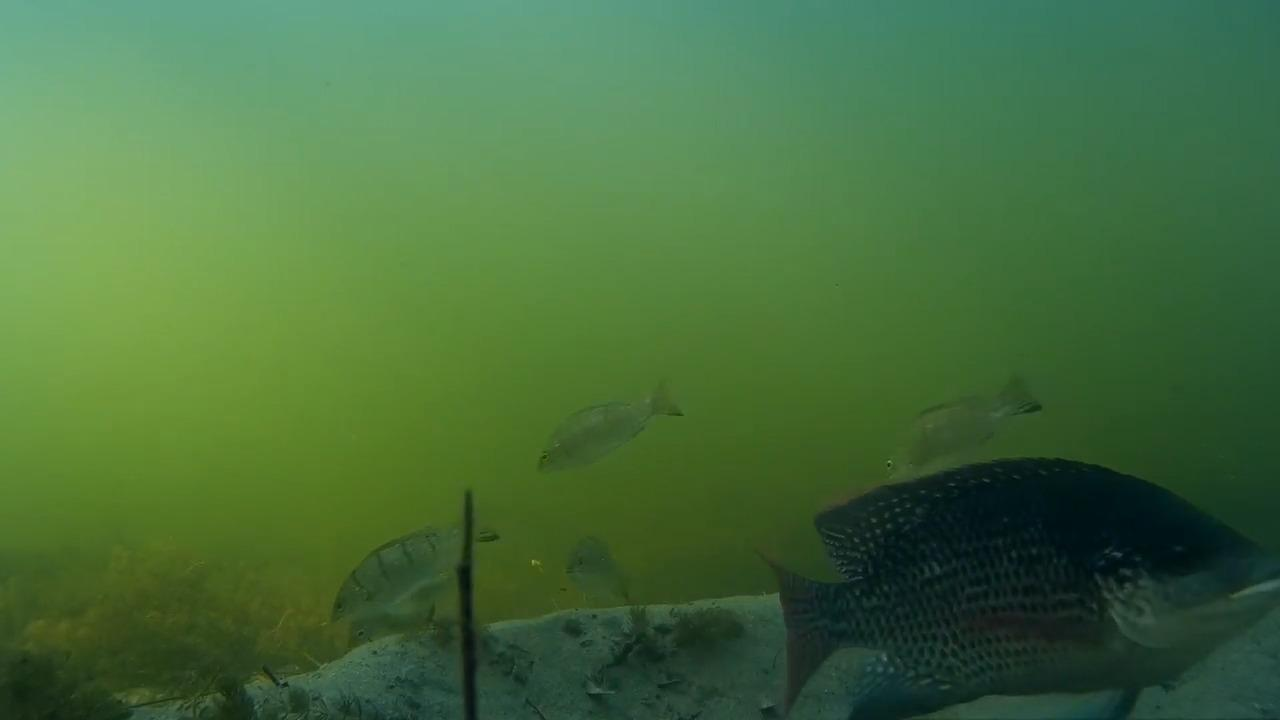Tilapia: (771, 433, 1280, 720), (269, 501, 486, 714), (851, 374, 1056, 470), (526, 379, 694, 484), (536, 514, 659, 620)
